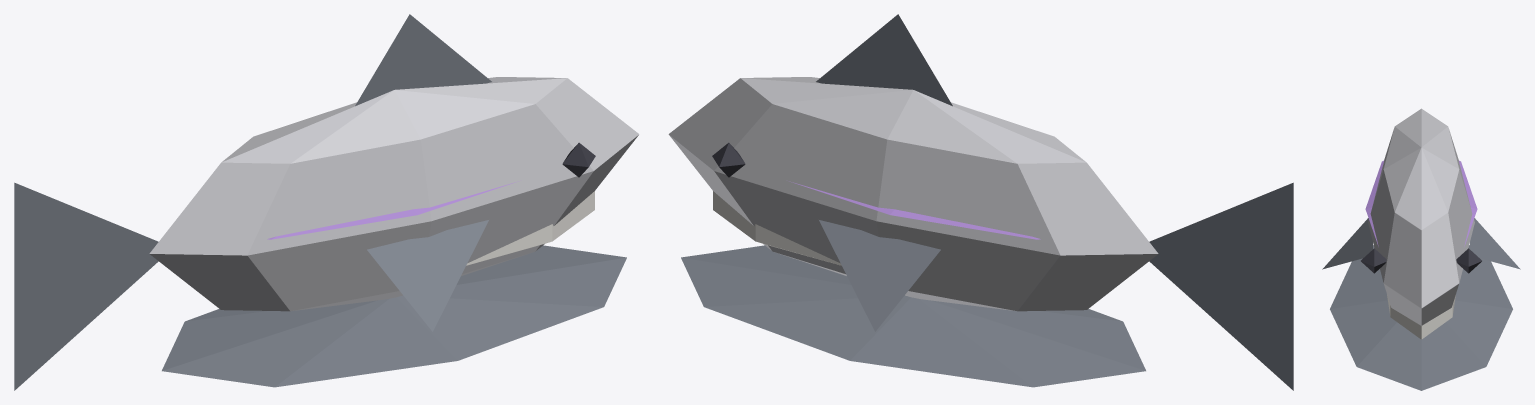
The model's file is deco_smelt.obj.
3 renders of one model, left to right at view 1: azimuth 30°, elevation 25°; view 2: azimuth 150°, elevation 25°; view 3: azimuth 270°, elevation 25°, orthographic. The views are drawn at different scales.
Parts seen in each view (by area): view 1: deco_smelt; view 2: deco_smelt; view 3: deco_smelt.
Boxes of the visible parts, bbox=[...] form: deco_smelt: bbox=[14, 14, 639, 390]; deco_smelt: bbox=[668, 14, 1293, 390]; deco_smelt: bbox=[1322, 108, 1520, 390].
Size of the model in its own units: 0.0408 by 0.0197 by 0.0156.
1 material, 1 textured.
